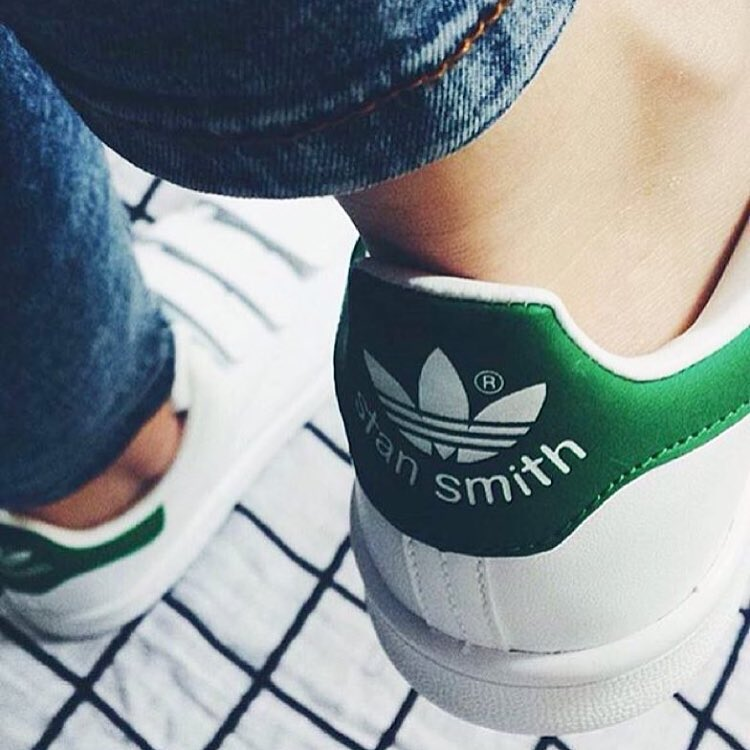sneaker: (287, 1, 749, 746), (2, 153, 379, 673)
